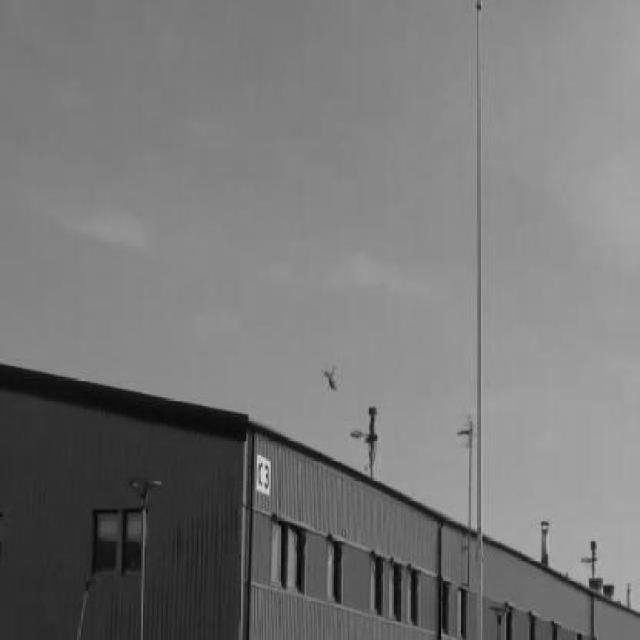helikopter: (316, 361, 342, 396)
